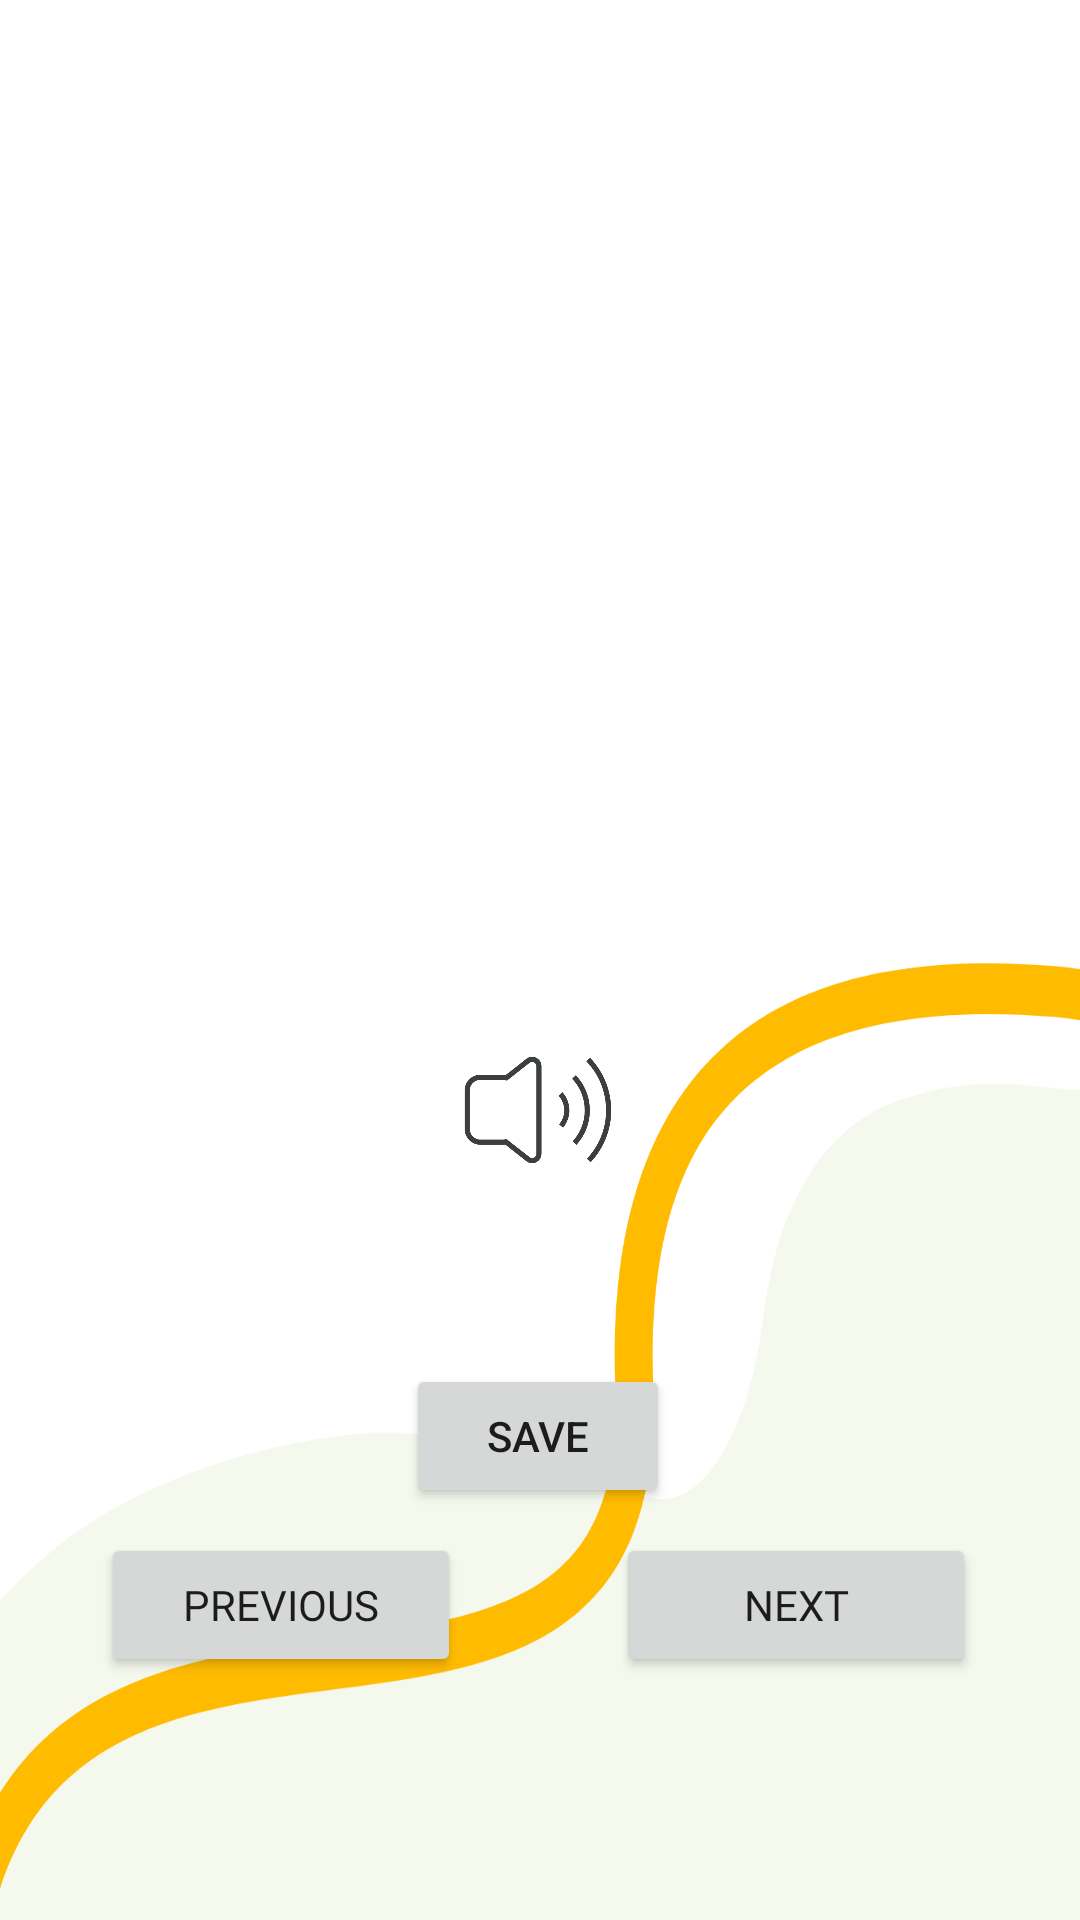

Screen size 1080w x 1920h. Icon name, then its center in pixels as point (x, y):
Play Sound: point (538, 1110)
